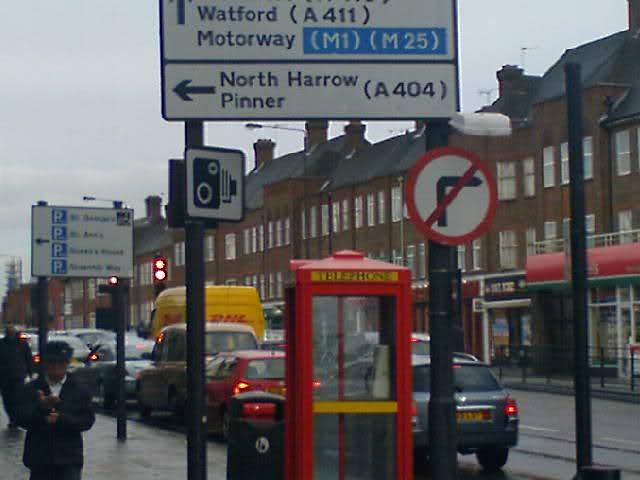no_right_turn: (406, 144, 498, 244)
